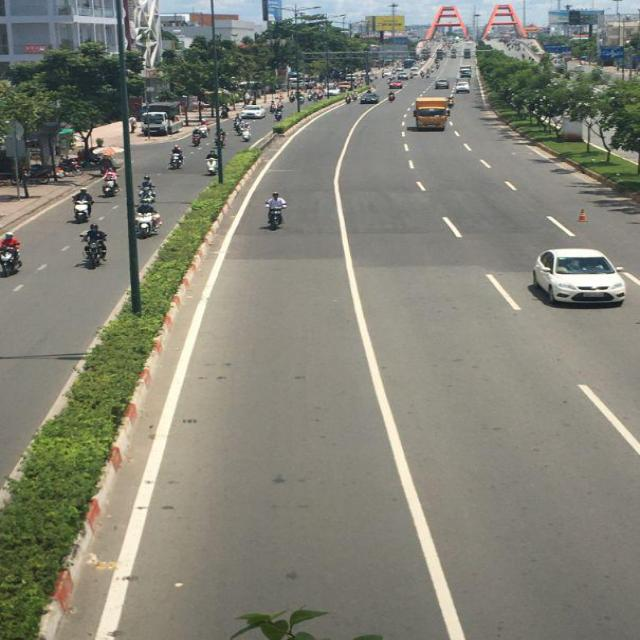car: (532, 249, 627, 308), (241, 108, 265, 121), (360, 94, 380, 105), (434, 80, 450, 91), (455, 83, 469, 94)
motorcycle: (1, 244, 24, 278), (135, 212, 160, 240), (264, 207, 285, 232), (74, 197, 92, 221), (169, 145, 183, 169), (192, 127, 207, 145)
truck: (141, 100, 188, 138), (413, 98, 449, 132)
